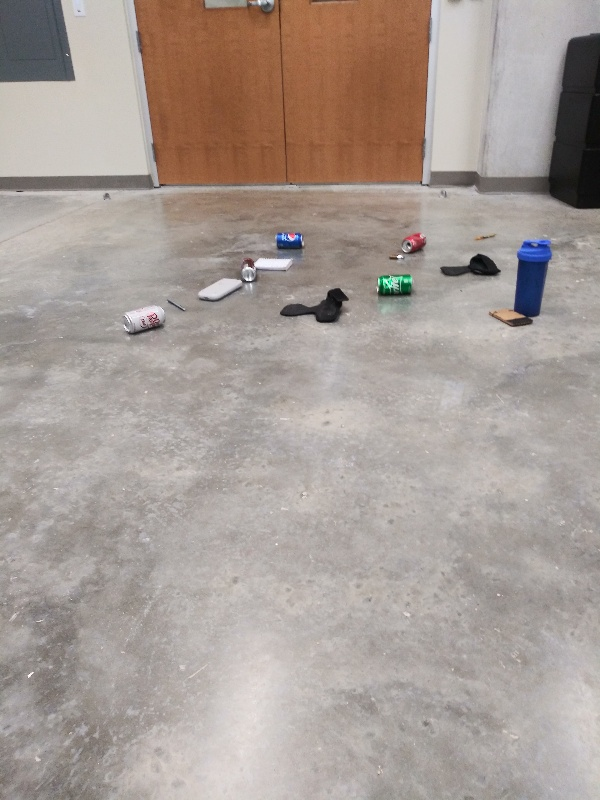can: (114, 303, 170, 335), (374, 272, 416, 299), (273, 230, 308, 254), (397, 232, 428, 251), (239, 256, 259, 282)
